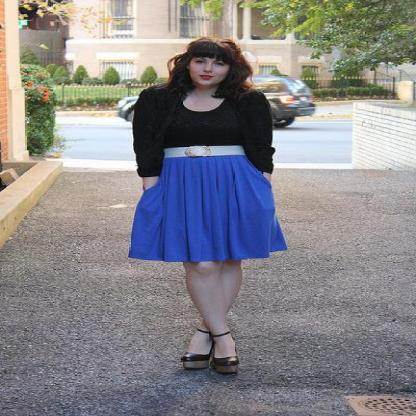shirt: (128, 86, 276, 190)
shoe: (173, 348, 240, 377)
skirt: (128, 146, 286, 262)
